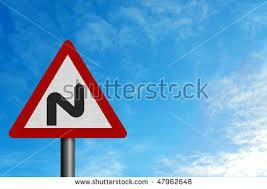double_bend_right: (8, 37, 128, 137)
